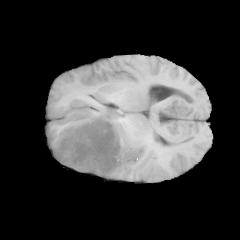glioma: (53, 111, 122, 177)
